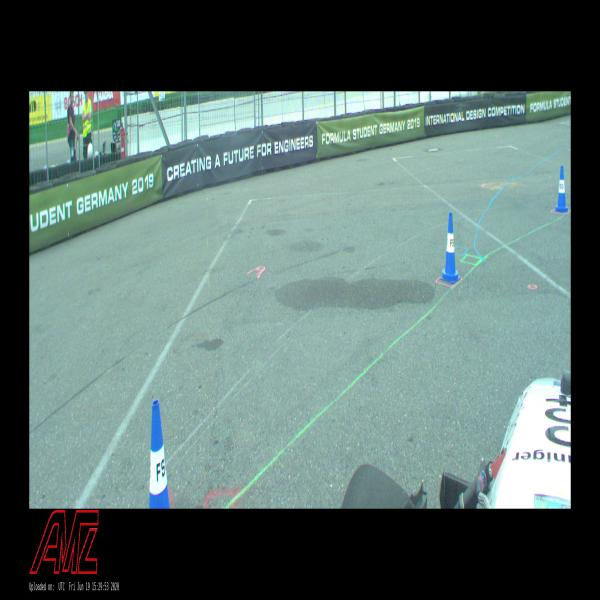blue_cone: (148, 400, 169, 508), (440, 212, 461, 284), (554, 166, 569, 213)
